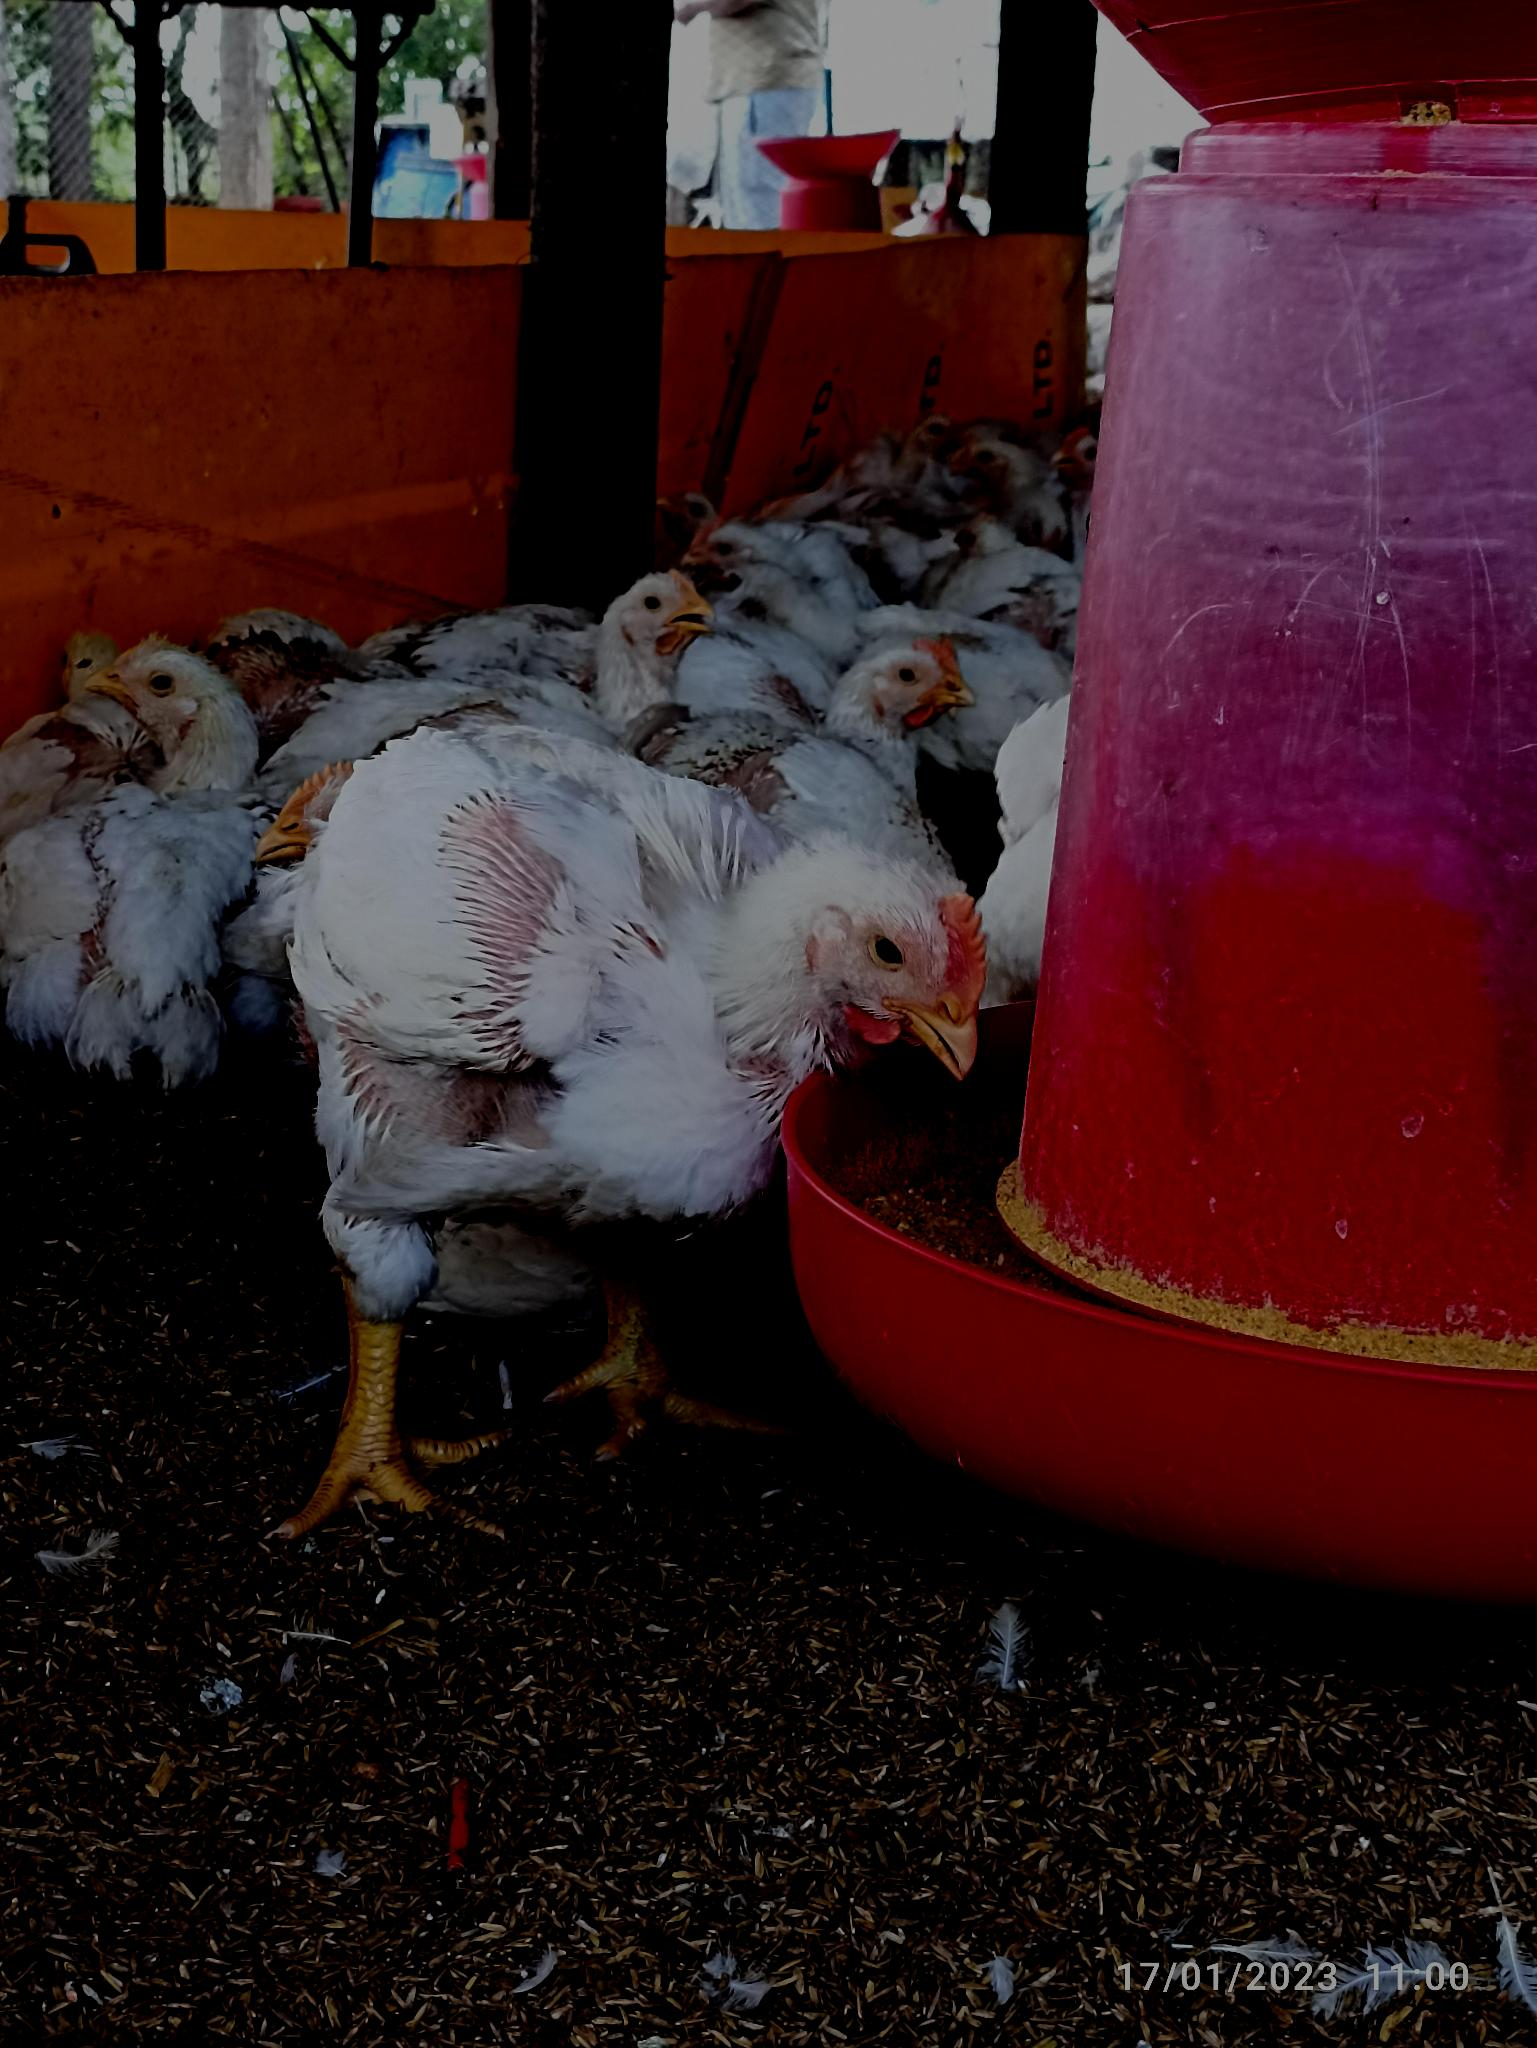Pollos: (284, 794, 990, 1212), (32, 647, 236, 1072), (605, 563, 836, 791), (920, 433, 1083, 646), (828, 629, 969, 804)
